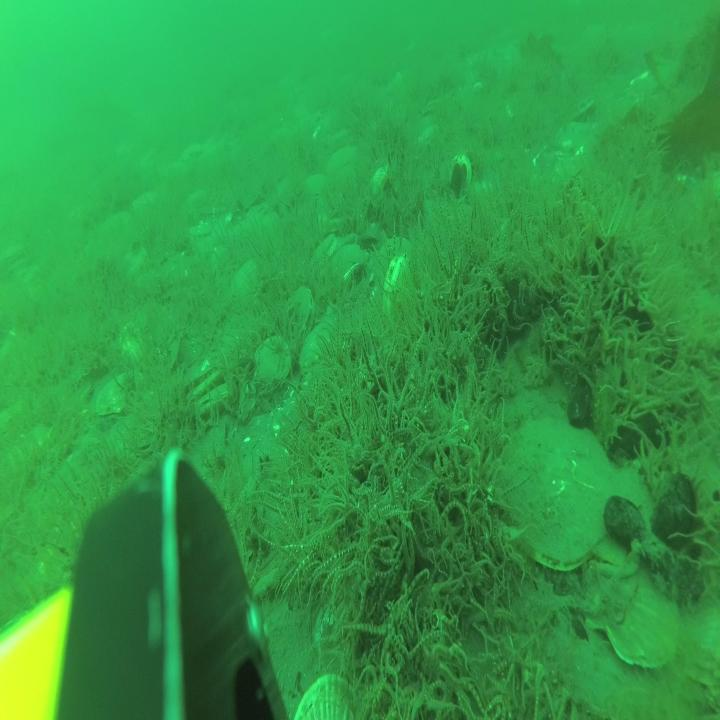scallop: (501, 415, 616, 568), (614, 564, 686, 671), (593, 473, 651, 577), (584, 522, 642, 620), (292, 672, 361, 720), (316, 606, 359, 668), (253, 332, 292, 395), (96, 368, 140, 419), (301, 316, 336, 380), (285, 287, 318, 342), (194, 384, 235, 426), (378, 233, 411, 285), (229, 263, 264, 310), (330, 244, 366, 287), (186, 364, 222, 402), (307, 235, 340, 273), (369, 161, 390, 207), (325, 147, 356, 173), (304, 171, 328, 201)
